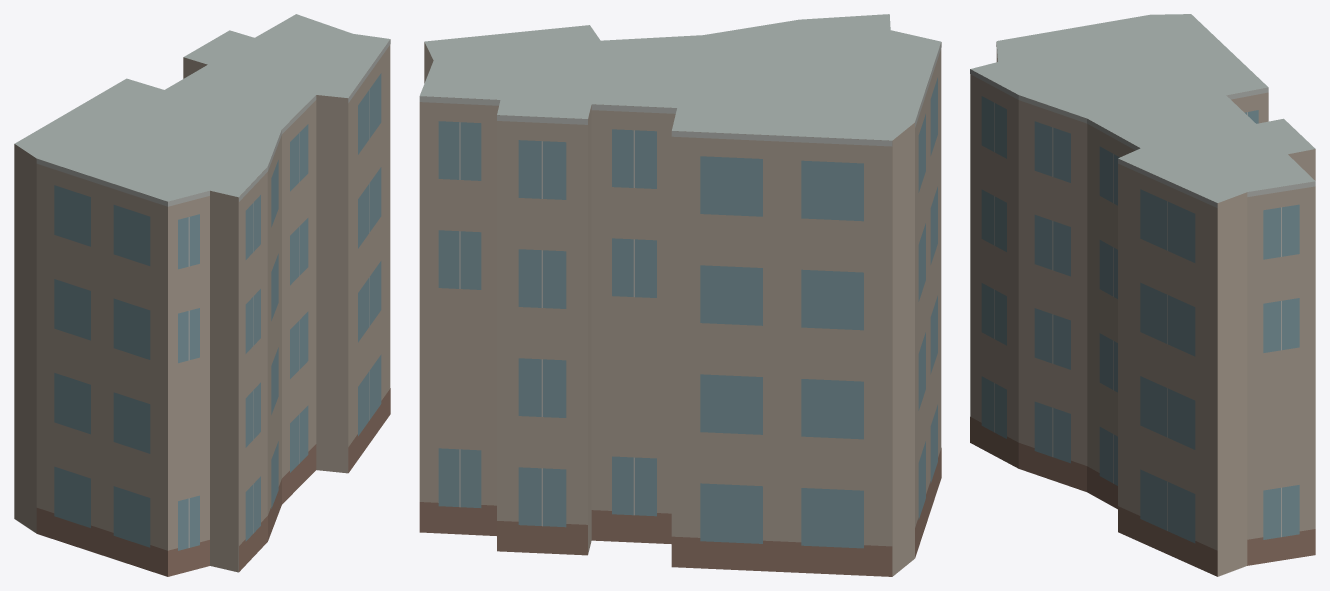
The model's file is survey-upis-32595124.glb.
3 views of the same model, side by side, from view 1: azimuth 30°, elevation 25°; view 2: azimuth 150°, elevation 25°; view 3: azimuth 270°, elevation 25° (orthographic). The views are drawn at different scales.
Parts seen in each view (by area): view 1: survey-upis-32595124.tmp; view 2: survey-upis-32595124.tmp; view 3: survey-upis-32595124.tmp.
Boxes of the visible parts, box(x1,y1,x2,y2) form: survey-upis-32595124.tmp: box(14, 14, 390, 576); survey-upis-32595124.tmp: box(419, 14, 941, 576); survey-upis-32595124.tmp: box(970, 14, 1315, 576).
Size of the model in its own units: 19.55 by 18 by 15.09.
